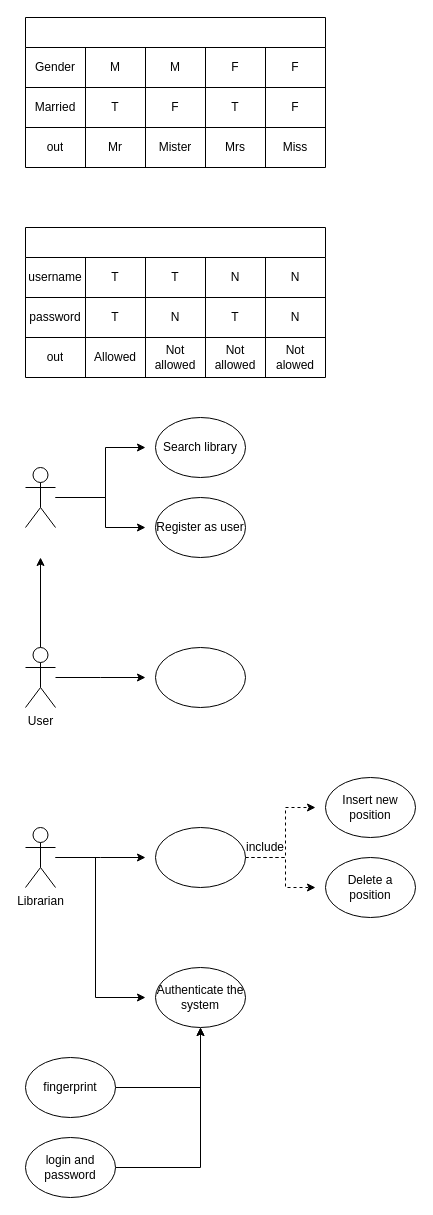
Image size: 433x1215. Some labels were removed from this diagram. Here are the shapes that lost their labels. From the top down, the box of each, then its label:
(24, 16, 326, 168): Title
(24, 226, 326, 378): Login
(24, 466, 56, 528): Guest
(154, 646, 246, 708): Reserve books
(154, 826, 246, 888): Update catalog
